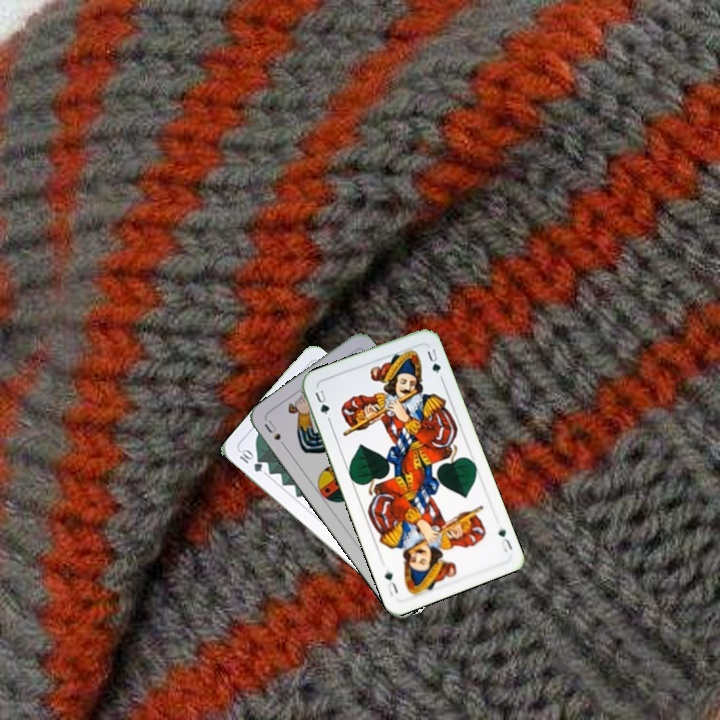G10: (235, 445, 265, 475)
GU: (311, 386, 333, 423), (494, 524, 515, 555)
SU: (260, 416, 290, 452)
